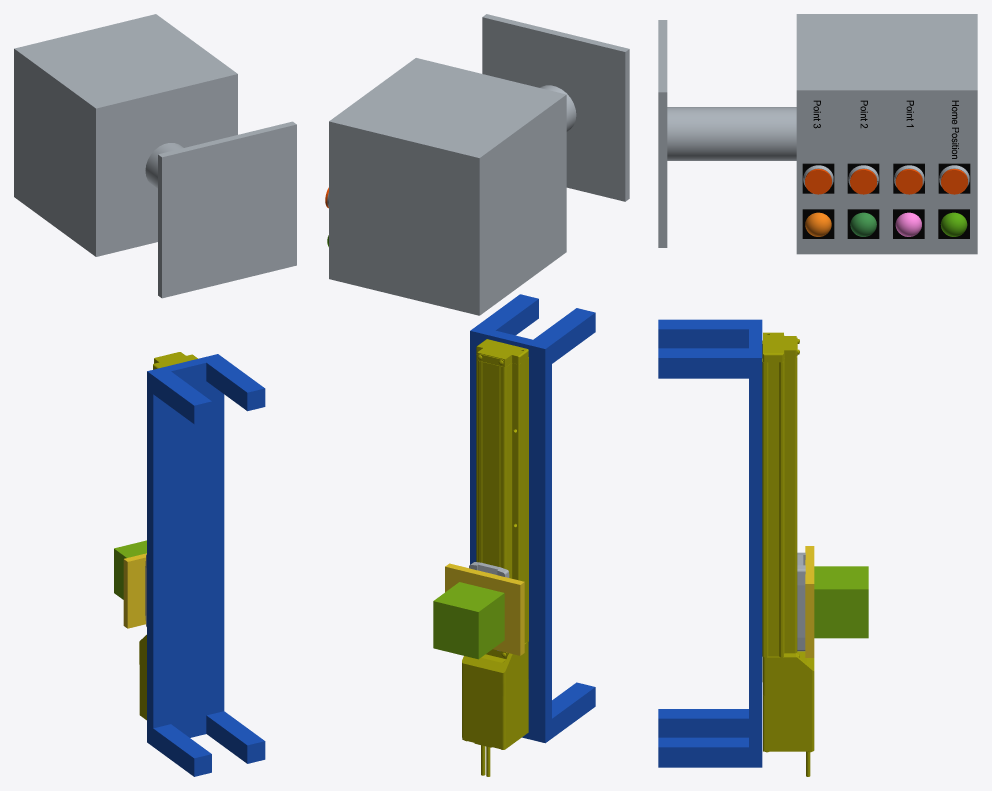
Rendered from simple_electric_actuator_model.gltf.
3 views of the same model, side by side, from view 1: azimuth 30°, elevation 25°; view 2: azimuth 150°, elevation 25°; view 3: azimuth 270°, elevation 25° (orthographic). The views are drawn at different scales.
Visible parts, largest first — view 1: control_panel_body, table, control_panel_stand, work_table, actuator_body, work; view 2: control_panel_body, actuator_body, table, control_panel_stand, work, work_table; view 3: control_panel_body, table, actuator_body, control_panel_stand, work, work_table, actuator_stage, button003, button005, button, button007.
Part boxes in pixels (box(x1,y1,x2,y2)): control_panel_body: box(14, 14, 237, 256); table: box(147, 354, 265, 776); control_panel_stand: box(145, 121, 296, 298); work_table: box(123, 553, 146, 628); actuator_body: box(139, 352, 197, 720); work: box(114, 540, 146, 599); control_panel_body: box(329, 58, 566, 315); actuator_body: box(462, 339, 528, 776); table: box(470, 294, 595, 743); control_panel_stand: box(482, 14, 629, 201); work: box(433, 582, 504, 659); work_table: box(445, 563, 524, 655); control_panel_body: box(796, 14, 977, 254); table: box(658, 319, 762, 767); actuator_body: box(762, 332, 814, 776); control_panel_stand: box(658, 20, 796, 247); work: box(814, 566, 868, 638); work_table: box(805, 546, 814, 657); actuator_stage: box(797, 552, 805, 651); button003: box(895, 169, 922, 194); button005: box(850, 169, 876, 194); button: box(941, 169, 967, 194); button007: box(805, 169, 831, 194).
Size of the model in its own units: 0.215 by 0.882 by 0.353.
